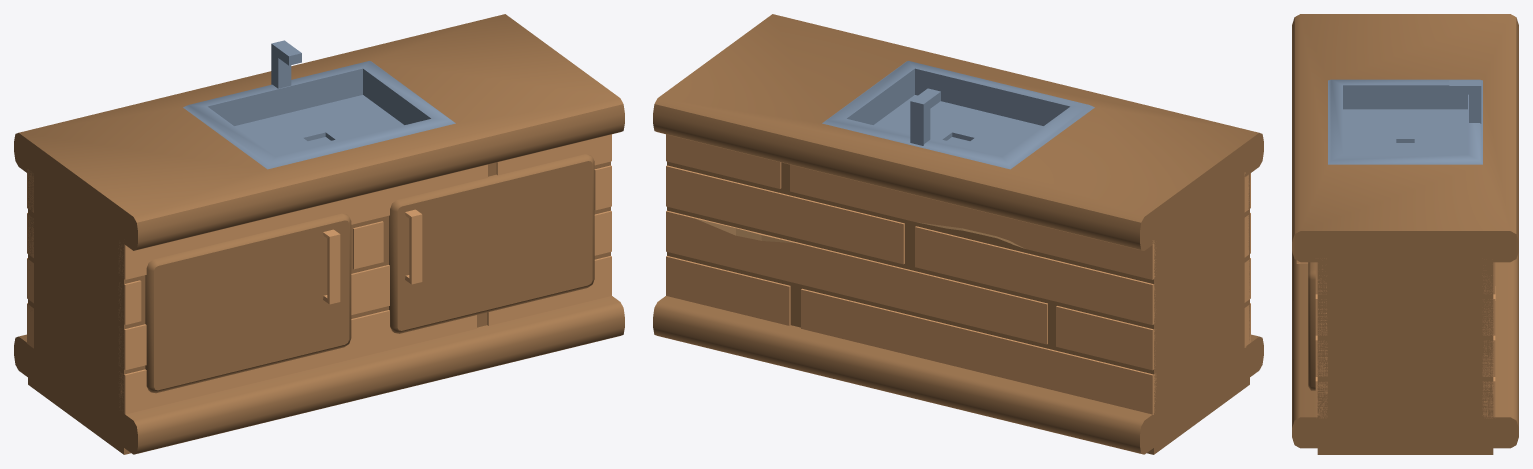
Rendered from quaternius-sushi-restaurant-environment-counter-sink.glb.
The picture shows the model from 3 angles, left to right: view 1: azimuth 30°, elevation 25°; view 2: azimuth 150°, elevation 25°; view 3: azimuth 270°, elevation 25°; orthographic projection. The views are drawn at different scales.
Parts seen in each view (by area): view 1: Environment_Counter_Sink; view 2: Environment_Counter_Sink; view 3: Environment_Counter_Sink.
Part boxes in pixels (bbox=[...]): Environment_Counter_Sink: bbox=[14, 14, 624, 454]; Environment_Counter_Sink: bbox=[653, 14, 1263, 454]; Environment_Counter_Sink: bbox=[1292, 14, 1518, 454].
Size of the model in its own units: 4 by 2.26 by 1.77.
Materials: 1 (1 with a texture image).
